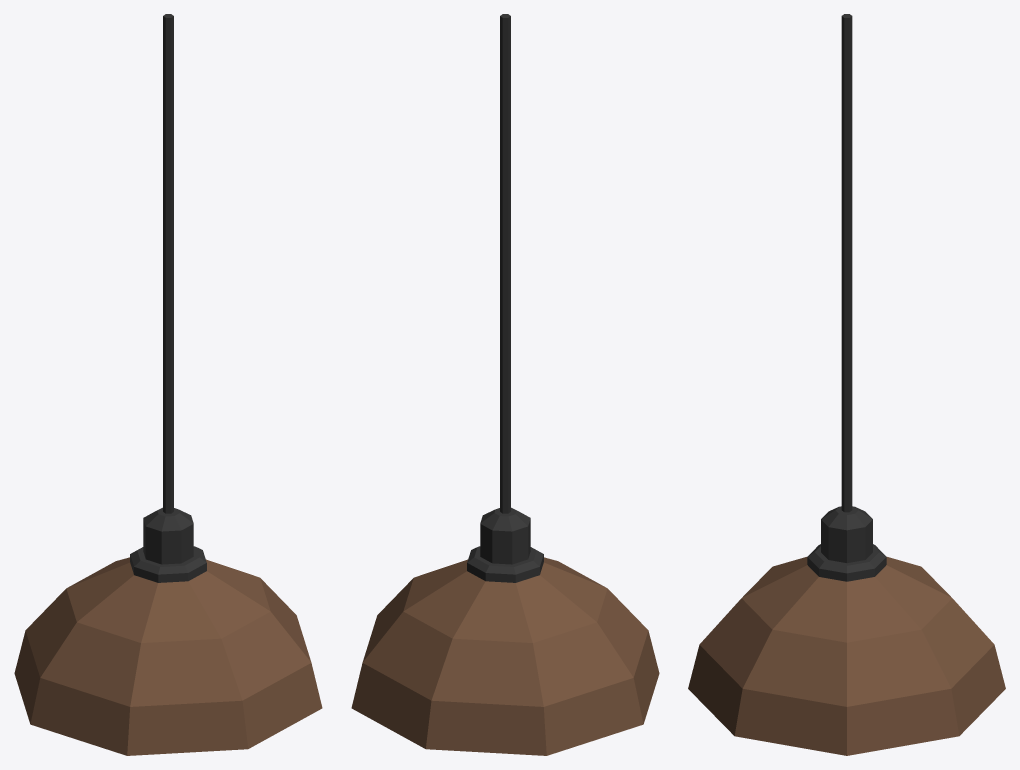
The model's file is SM_Props_Interior_Shop_Light_CeilingLight_04.fbx.
The picture shows the model from 3 angles, left to right: view 1: azimuth 30°, elevation 25°; view 2: azimuth 150°, elevation 25°; view 3: azimuth 270°, elevation 25°; orthographic projection.
Parts seen in each view (by area): view 1: SM_Props_Interior_Shop_Light_CeilingLight_04; view 2: SM_Props_Interior_Shop_Light_CeilingLight_04; view 3: SM_Props_Interior_Shop_Light_CeilingLight_04.
Boxes of the visible parts, x1,y1,x2,y2 form: SM_Props_Interior_Shop_Light_CeilingLight_04: (14,14,322,755); SM_Props_Interior_Shop_Light_CeilingLight_04: (351,14,659,755); SM_Props_Interior_Shop_Light_CeilingLight_04: (688,14,1005,755).
Bounding box in the file's own units: 30 × 70.3 × 30.
